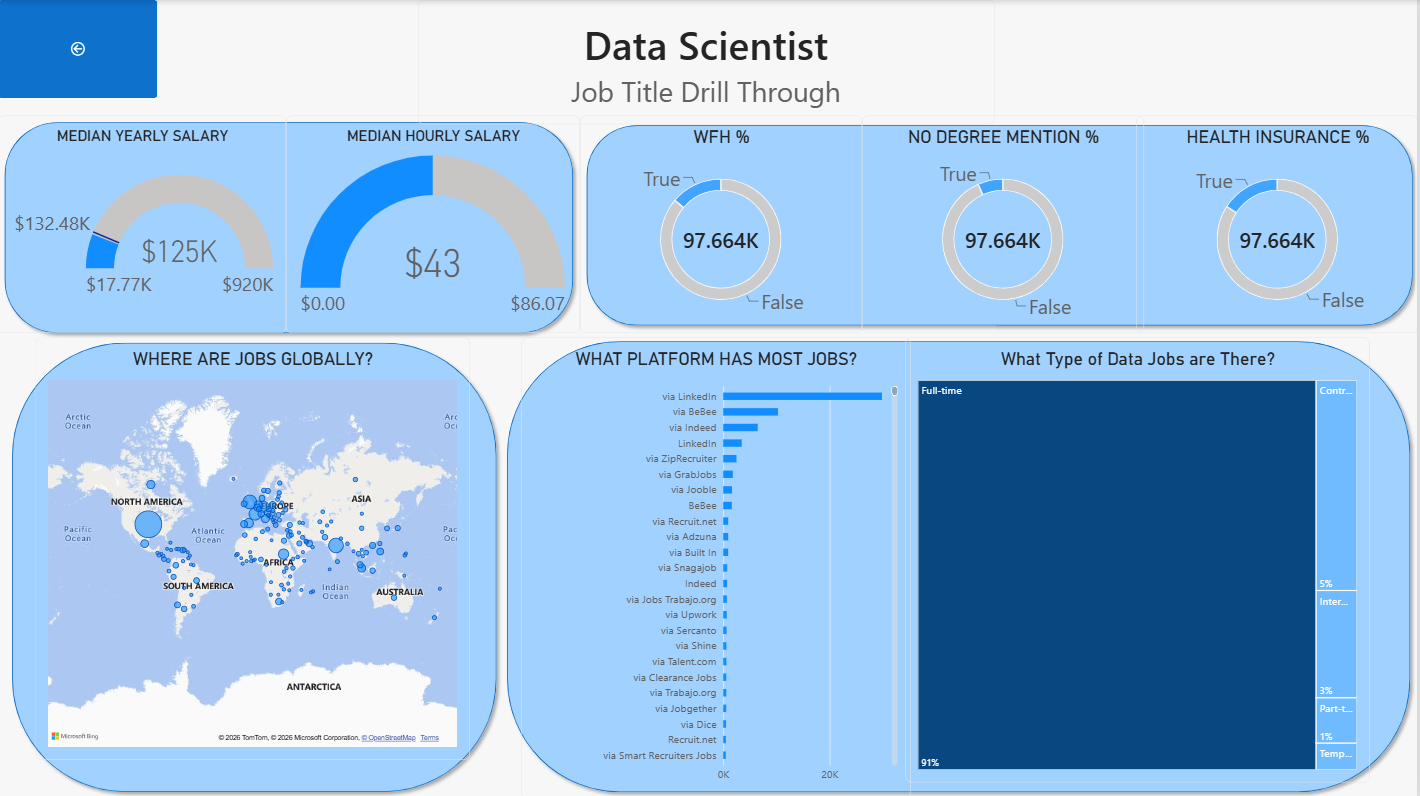

Layout of this report page (visuals, bound fields, positions):
{"tool":"powerbi","page":{"name":"Job Title Drill Through","canvas":[1920,1080],"ordinal":1},"visuals":[{"type":"group","id":"g1","title":"Background 2","box":[0,155.1,1920.8,923.4],"z":0},{"type":"shape","box":[0,155.1,786.3,303.2],"z":0,"group":"g1"},{"type":"card","fields":{"Values":["Min(job_postings_flat.job_title_short)"]},"box":[568.4,0,779.2,168.2],"z":1000},{"type":"shape","box":[679.7,450.9,1238.7,627.6],"z":1000,"group":"g1"},{"type":"actionButton","box":[0,0,215.5,132.6],"z":2000},{"type":"shape","box":[9.5,453.3,672.6,625.3],"z":2000,"group":"g1"},{"type":"gauge","title":"MEDIAN YEARLY SALARY","fields":{"Y":["Median(job_postings_flat.salary_year_avg)"],"MinValue":["Min(job_postings_flat.salary_year_avg)1"],"MaxValue":["Max(job_postings_flat.salary_year_avg)2"],"TargetValue":["Avg(job_postings_flat.salary_year_avg)3"]},"box":[0,156.1,389.3,294],"z":3000},{"type":"shape","box":[786.3,159.6,1134.5,289],"z":3000,"group":"g1"},{"type":"gauge","title":"MEDIAN HOURLY SALARY","fields":{"Y":["Median(job_postings_flat.salary_hour_avg)"]},"box":[389.3,156.1,397.4,294],"z":4000},{"type":"donutChart","title":"WFH %","fields":{"Category":["job_postings_flat.job_work_from_home"],"Y":["CountNonNull(job_postings_flat.job_title_short)"]},"box":[786.7,156.1,381.2,294],"z":5000},{"type":"donutChart","title":"NO DEGREE MENTION %","fields":{"Y":["CountNonNull(job_postings_flat.job_title_short)"],"Category":["job_postings_flat.job_no_degree_mention"]},"box":[1167.9,156.1,381.2,294],"z":6000},{"type":"donutChart","title":"HEALTH INSURANCE %","fields":{"Y":["CountNonNull(job_postings_flat.job_title_short)"],"Category":["job_postings_flat.job_health_insurance"]},"box":[1538.9,156.1,381.2,294],"z":7000},{"type":"map","title":"WHERE ARE JOBS GLOBALLY?","fields":{"Category":["job_postings_flat.job_country"],"Size":["CountNonNull(job_postings_flat.job_title_short)"]},"box":[49.7,457.1,587.4,570.8],"z":8000},{"type":"treemap","title":"What Type of Data Jobs are There?","fields":{"Group":["job_postings_flat.job_schedule_type"],"Values":["CountNonNull(job_postings_flat.job_schedule_type)"]},"box":[1226.9,457.1,627.6,601.6],"z":9000},{"type":"barChart","title":"WHAT PLATFORM HAS MOST JOBS?","fields":{"Category":["job_postings_flat.job_via"],"Y":["CountNonNull(job_postings_flat.job_via)"]},"box":[708.2,457.1,525.8,622.9],"z":10000}]}

Visuals, with their boxes in screenshot pixels (x1, y1, x2, y2), scaled from the page's 1920x1080 canvas onto the 1420x796 screenshot:
"Background 2" group: {"x1": 0, "y1": 114, "x2": 1419, "y2": 795}
shape: {"x1": 0, "y1": 114, "x2": 582, "y2": 338}
card - Min(job_postings_flat.job_title_short): {"x1": 420, "y1": 0, "x2": 997, "y2": 124}
shape: {"x1": 503, "y1": 332, "x2": 1419, "y2": 795}
actionButton: {"x1": 0, "y1": 0, "x2": 159, "y2": 98}
shape: {"x1": 7, "y1": 334, "x2": 504, "y2": 795}
"MEDIAN YEARLY SALARY" gauge: {"x1": 0, "y1": 115, "x2": 288, "y2": 332}
shape: {"x1": 582, "y1": 118, "x2": 1419, "y2": 331}
"MEDIAN HOURLY SALARY" gauge: {"x1": 288, "y1": 115, "x2": 582, "y2": 332}
"WFH %" donutChart: {"x1": 582, "y1": 115, "x2": 864, "y2": 332}
"NO DEGREE MENTION %" donutChart: {"x1": 864, "y1": 115, "x2": 1146, "y2": 332}
"HEALTH INSURANCE %" donutChart: {"x1": 1138, "y1": 115, "x2": 1419, "y2": 332}
"WHERE ARE JOBS GLOBALLY?" map: {"x1": 37, "y1": 337, "x2": 471, "y2": 758}
"What Type of Data Jobs are There?" treemap: {"x1": 907, "y1": 337, "x2": 1372, "y2": 780}
"WHAT PLATFORM HAS MOST JOBS?" barChart: {"x1": 524, "y1": 337, "x2": 913, "y2": 795}
